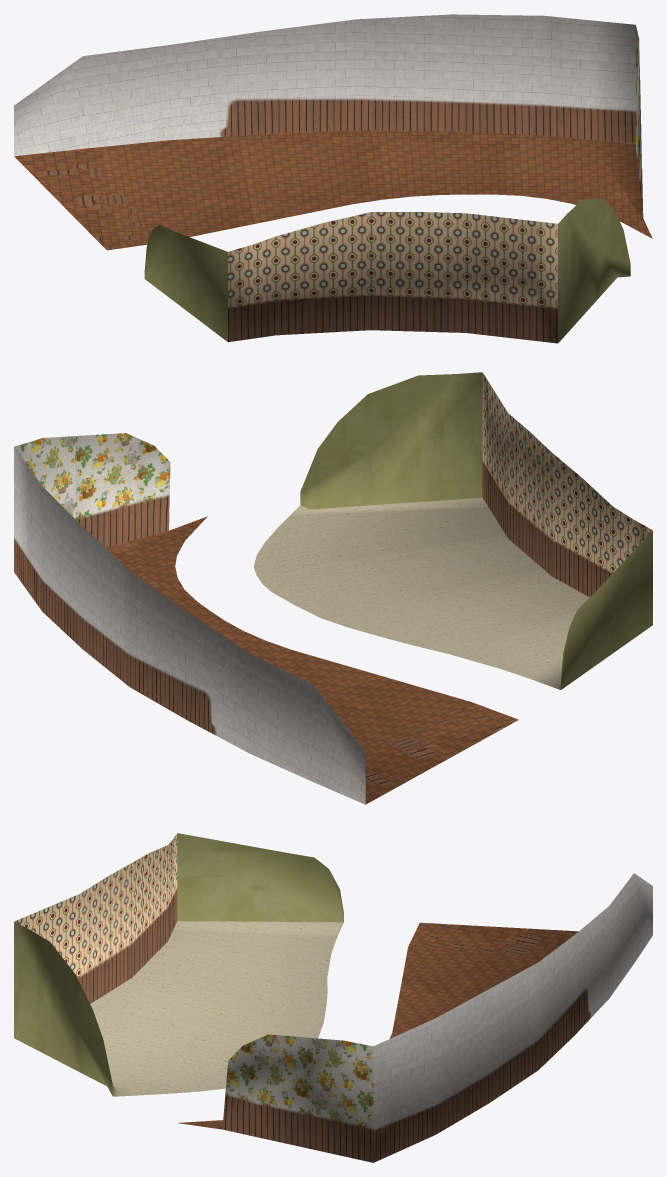
Rendered from mesh_60_wall.glb.
3 renders of one model, top to bottom at view 1: azimuth 30°, elevation 25°; view 2: azimuth 150°, elevation 25°; view 3: azimuth 270°, elevation 25°, orthographic. The views are drawn at different scales.
Parts seen in each view (by area): view 1: mesh_60_wall; view 2: mesh_60_wall; view 3: mesh_60_wall.
Part boxes in pixels (x1=…): mesh_60_wall: x1=14, y1=14, x2=652, y2=343; mesh_60_wall: x1=14, y1=372, x2=652, y2=804; mesh_60_wall: x1=14, y1=833, x2=652, y2=1162.
Size of the model in its own units: 10.94 by 2.46 by 12.21.
Materials: 1 (1 with a texture image).
